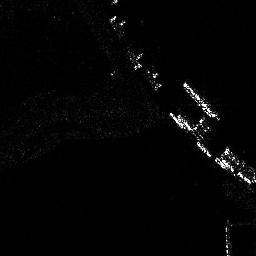ship: (182, 78, 221, 120)
